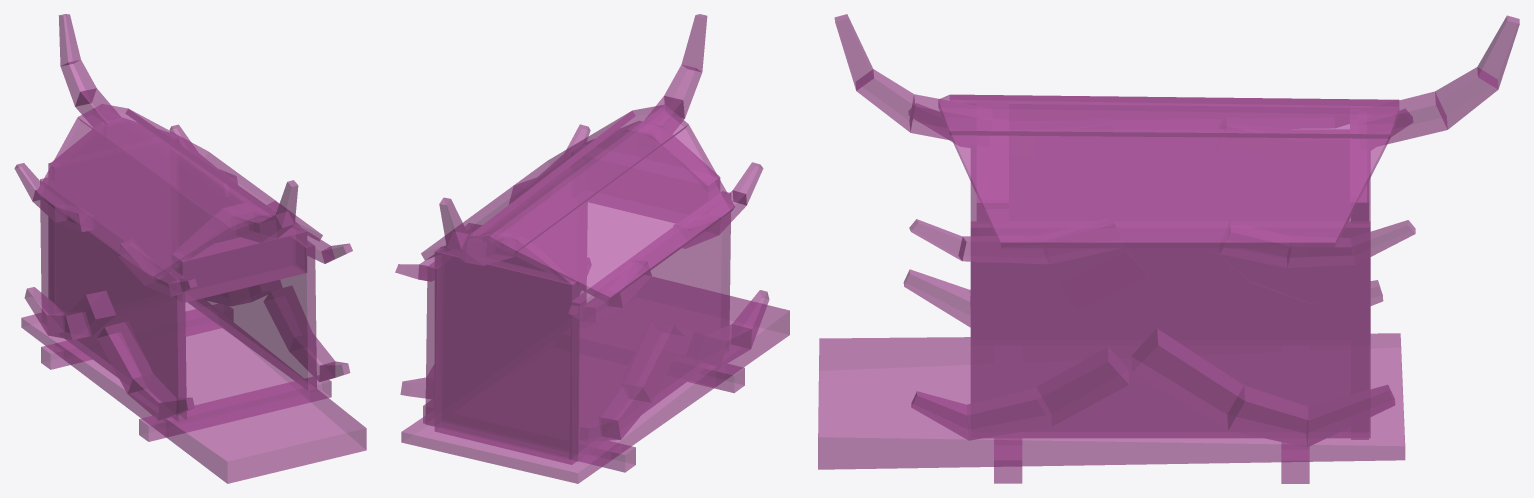
The model's file is SM_Veh_Wagon_Cage_01_Collision.fbx.
3 renders of one model, left to right at view 1: azimuth 30°, elevation 25°; view 2: azimuth 150°, elevation 25°; view 3: azimuth 270°, elevation 25°, orthographic. The views are drawn at different scales.
Visible parts, largest first — view 1: SM_Veh_Wagon_Cage_01_Collision; view 2: SM_Veh_Wagon_Cage_01_Collision; view 3: SM_Veh_Wagon_Cage_01_Collision.
Part boxes in pixels (bbox=[...]): SM_Veh_Wagon_Cage_01_Collision: bbox=[14, 14, 366, 483]; SM_Veh_Wagon_Cage_01_Collision: bbox=[395, 14, 789, 483]; SM_Veh_Wagon_Cage_01_Collision: bbox=[818, 14, 1519, 483].
Size of the model in its own units: 299 by 433 by 678.
